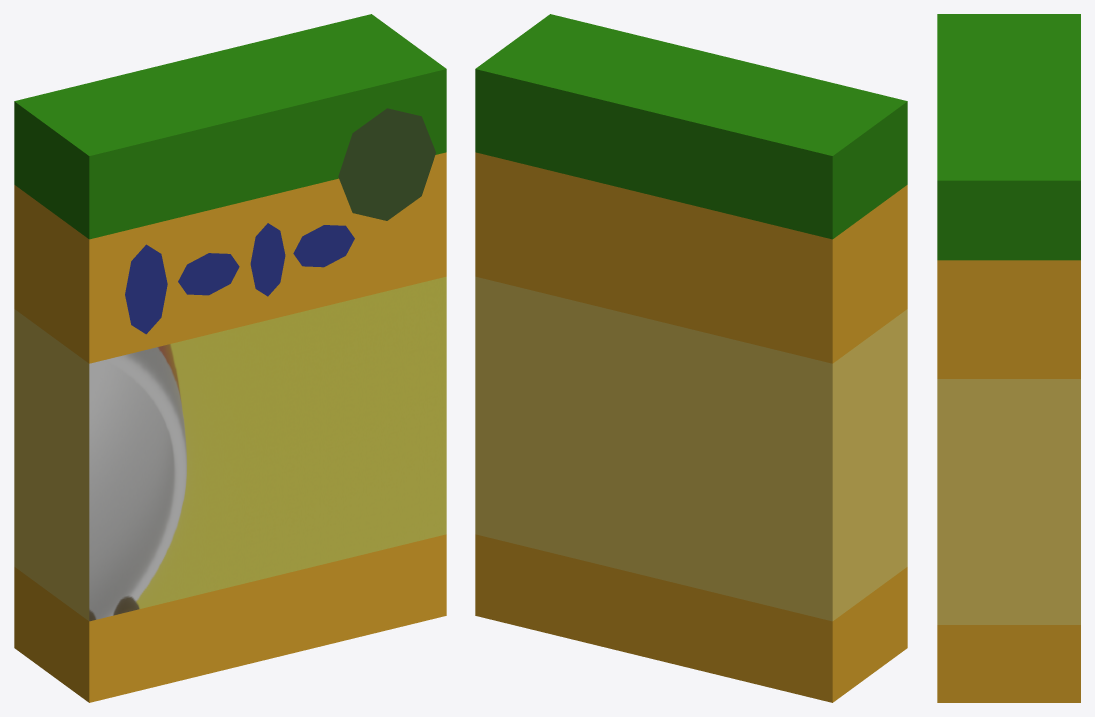
File: Ma_Cereals_1.fbx
3 renders of one model, left to right at view 1: azimuth 30°, elevation 25°; view 2: azimuth 150°, elevation 25°; view 3: azimuth 270°, elevation 25°, orthographic. The views are drawn at different scales.
Visible parts, largest first — view 1: Ma_Cereals_1; view 2: Ma_Cereals_1; view 3: Ma_Cereals_1.
Boxes of the visible parts, x1,y1,x2,y2 form: Ma_Cereals_1: (14, 14, 446, 702); Ma_Cereals_1: (475, 14, 907, 702); Ma_Cereals_1: (937, 14, 1080, 702).
Bounding box in the file's own units: 181 × 66.41 × 264.
